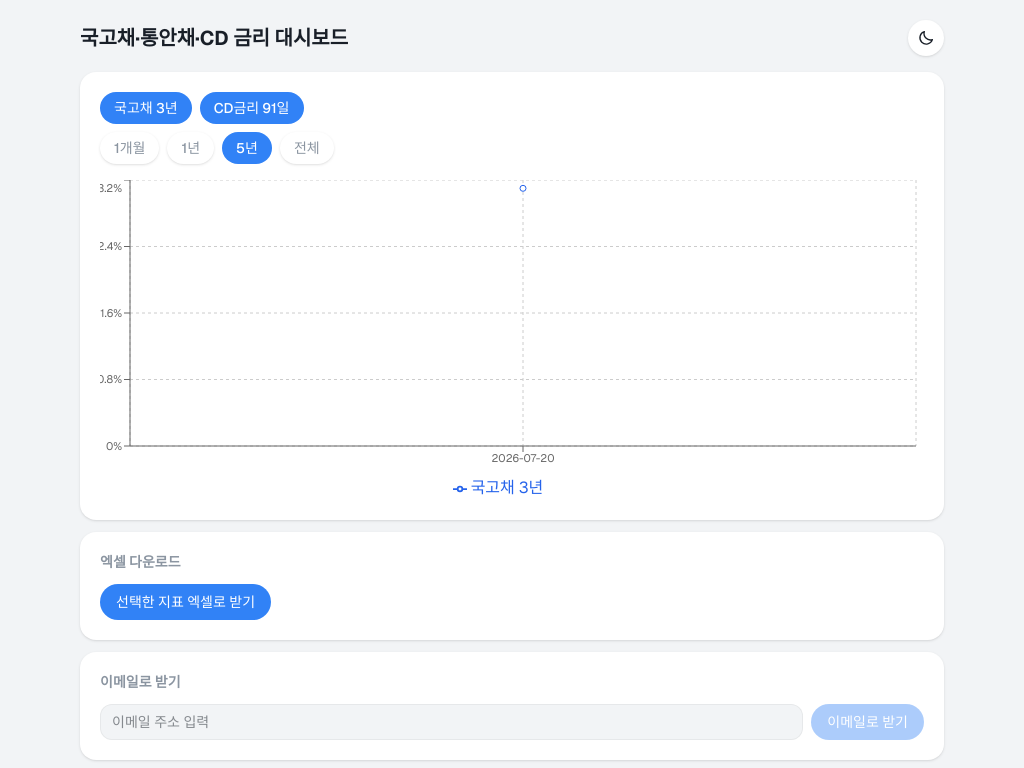
Scenario: Dashboard refetch error handling › keeps existing rows and shows an error message when the API returns a 500
Click the checkbox labelled "CD금리 91일" at (252, 108), box x1=200 y1=92 x2=304 y2=124
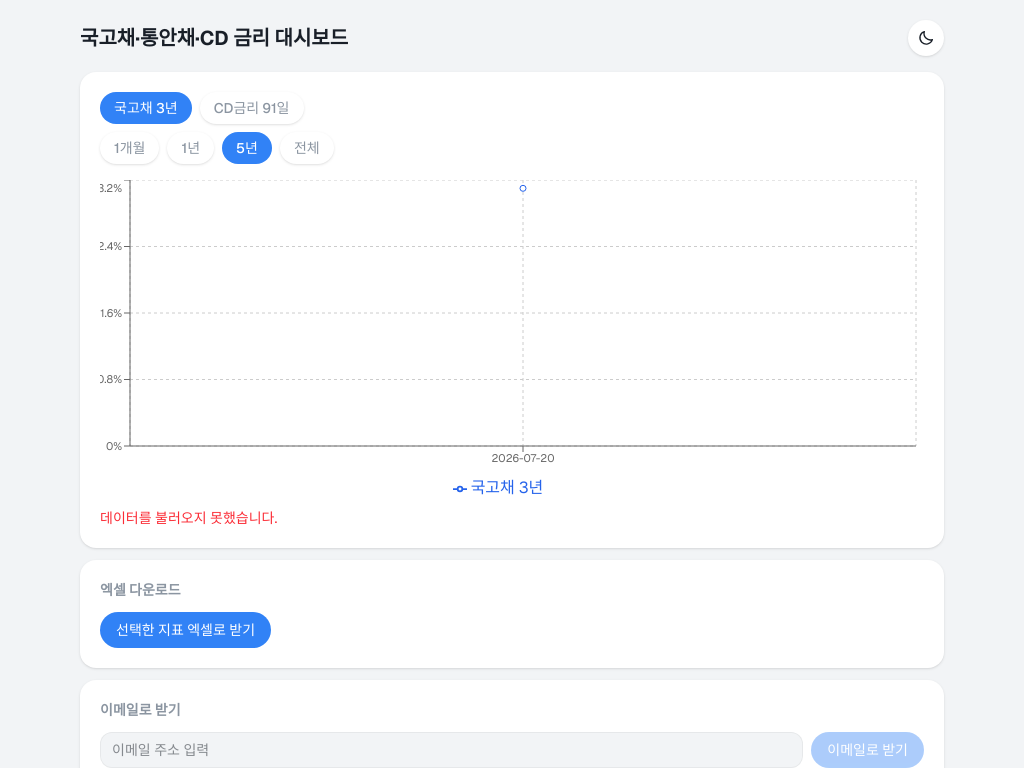
Check: the text "데이터를 불러오지 못했습니다." is shown, box x1=100 y1=509 x2=277 y2=527
